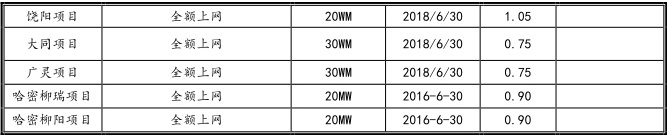column: (12, 1, 90, 135), (402, 1, 464, 135), (170, 1, 223, 135), (324, 1, 353, 135), (503, 1, 532, 135)
row: (1, 112, 667, 126), (1, 37, 667, 50), (1, 65, 667, 78), (1, 89, 667, 102), (1, 9, 667, 21)
